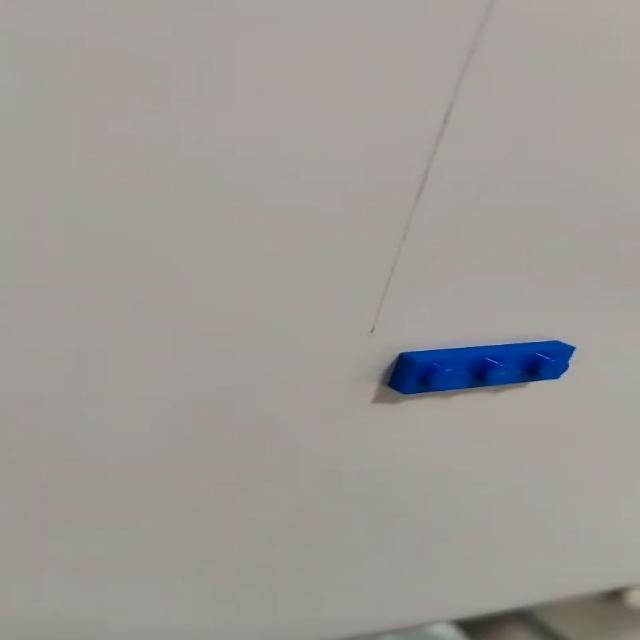C3x1x0: (384, 339, 581, 392)
